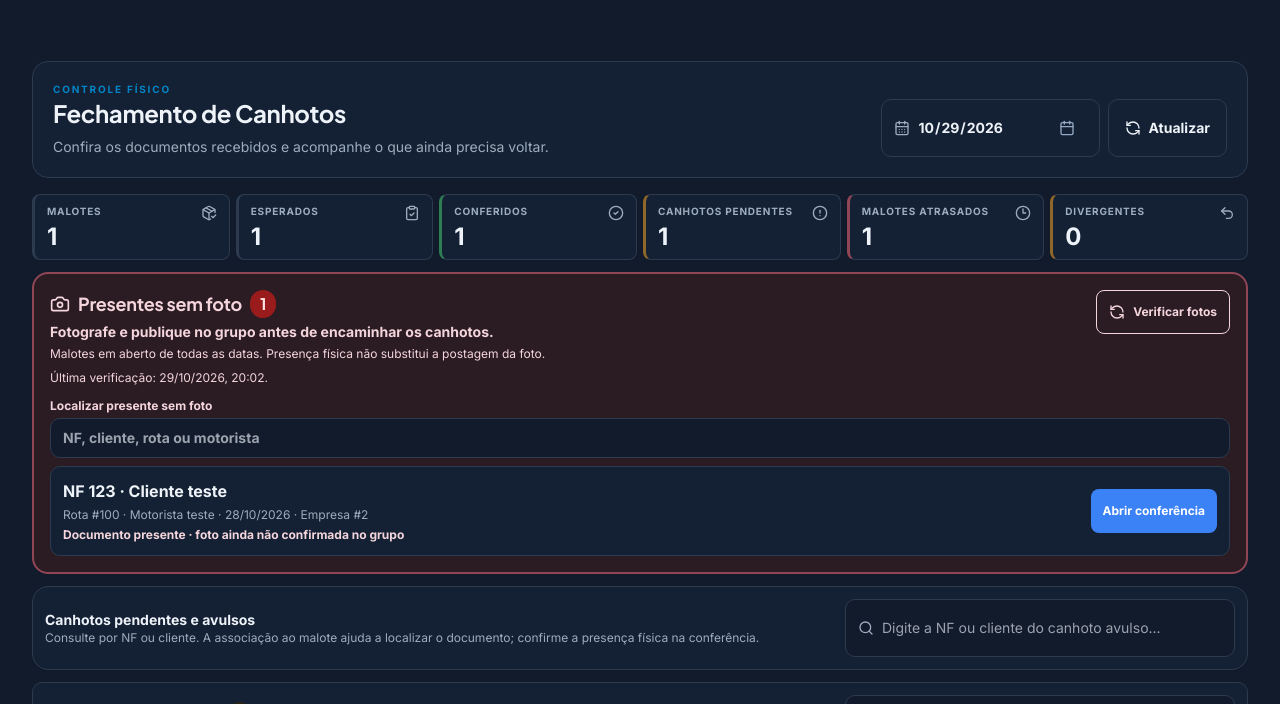
Test: verificar fotos consulta apenas malotes salvos e remove dispensa Vitalmar
(page scrolled)
What coordinates should you click on to do the following:
click the button "Verificar fotos"
I would click on:
 (1163, 312)
Its box is [1096,290,1230,334].
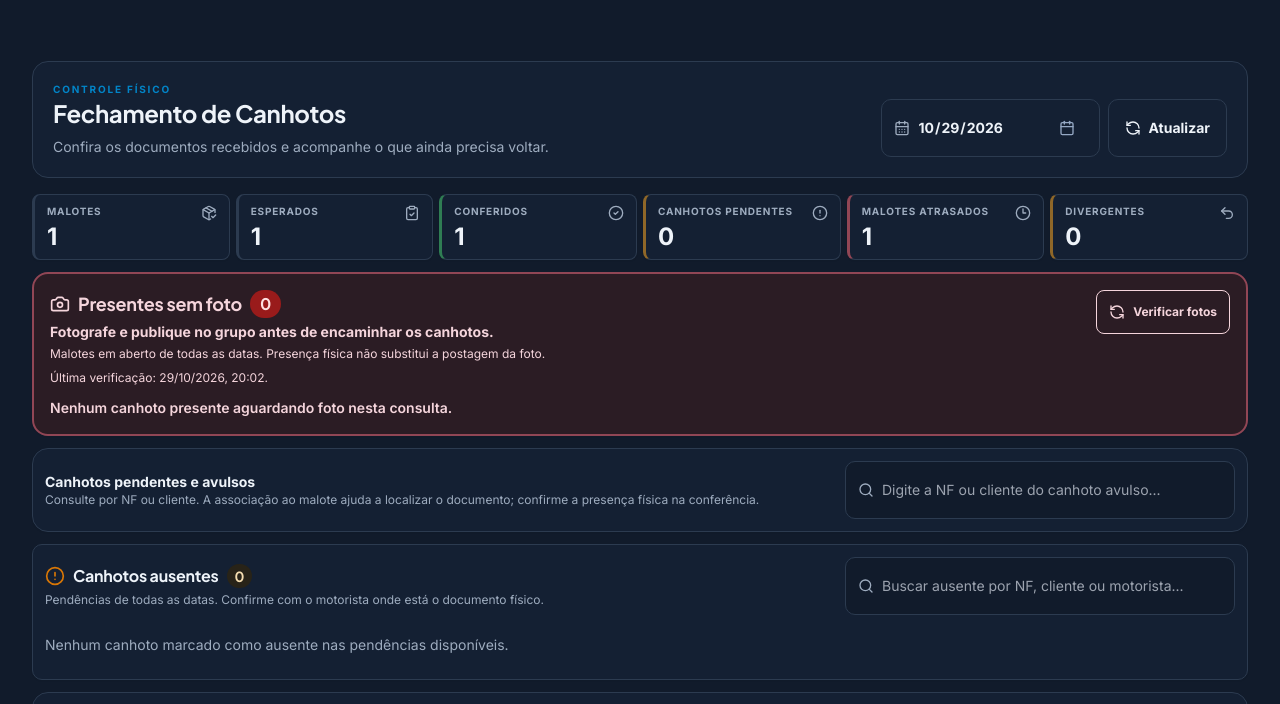
Now the element "Presentes sem foto" no longer shows "NF 123", box [32,272,1248,436]
